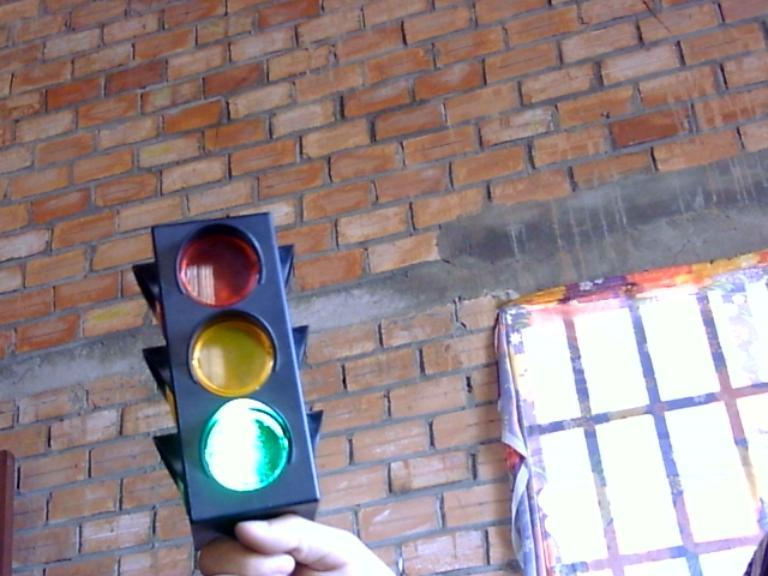green: (194, 393, 298, 496)
